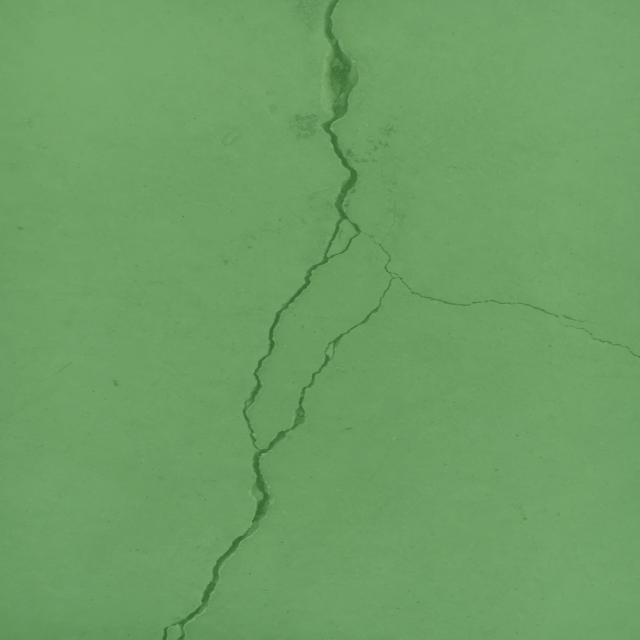crack: (161, 0, 589, 640), (559, 321, 640, 358)
